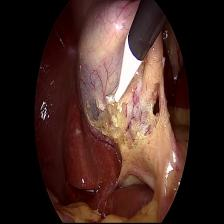Hook: (104, 41, 140, 107), (110, 74, 111, 75)
